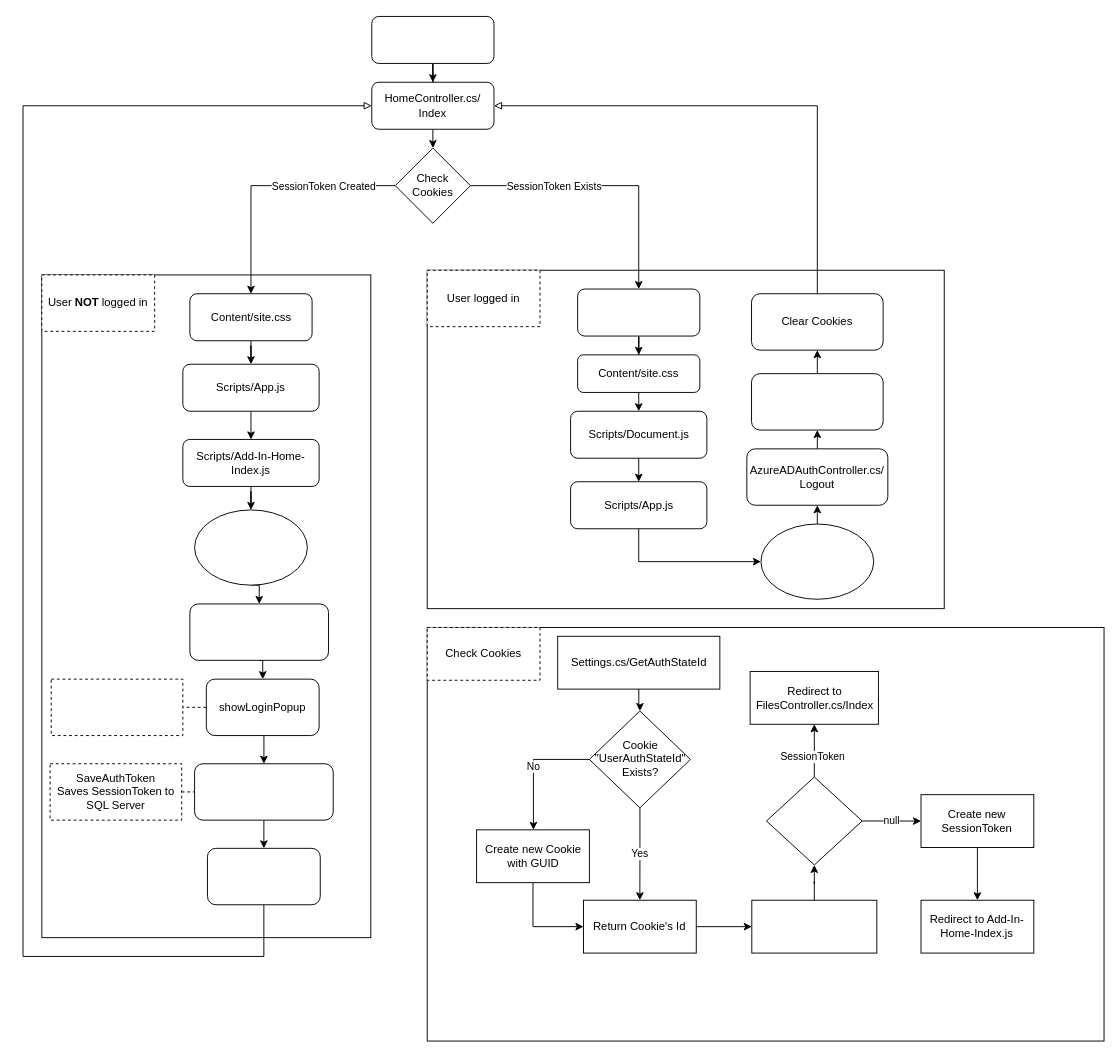
This 1120x1058 diagram has some shape labels left out. Here are the shapes that lost their labels. From the top down, the centre of each, then its label:
point 432,39: On App Startup
point 638,312: FilesController.cs/Index
point 817,401: DeleteUserSessionToken
point 250,547: On-Click "Connect to Office 365"
point 817,561: On-Click "Logout of Office 365"
point 259,631: AzureADAuthController.cs/ Login
point 116,707: EventHandler on DialogMessageRecieved
point 263,791: AzureADAuthController.cs/ Authorize
point 814,820: Search SQL Server with Id
point 263,876: Scripts/ Add-in-Authorize-Complete.js
point 814,926: Data.cs/ GetUserSessionToken
